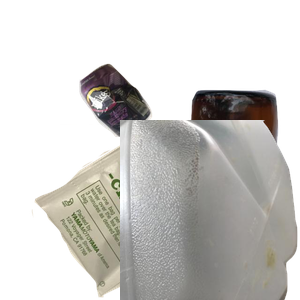glass: (87, 87, 300, 267)
metal: (77, 61, 222, 191)
plastic: (120, 120, 300, 300)
trash: (29, 124, 238, 300)
